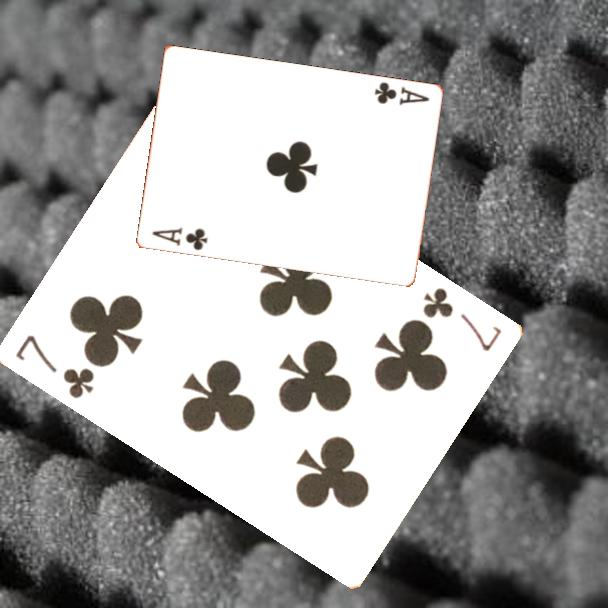c01: (148, 224, 210, 253), (370, 79, 432, 108)
c07: (419, 283, 505, 354), (12, 331, 98, 402)
